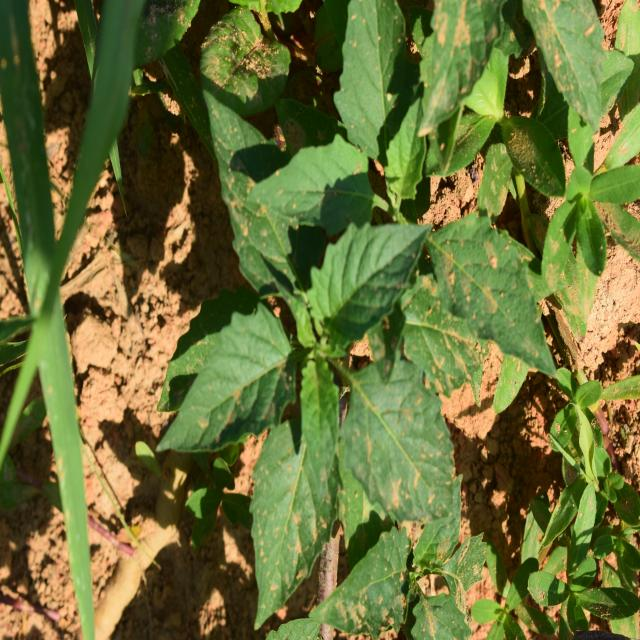Black_nightshade: (178, 172, 452, 560), (274, 29, 531, 334)
